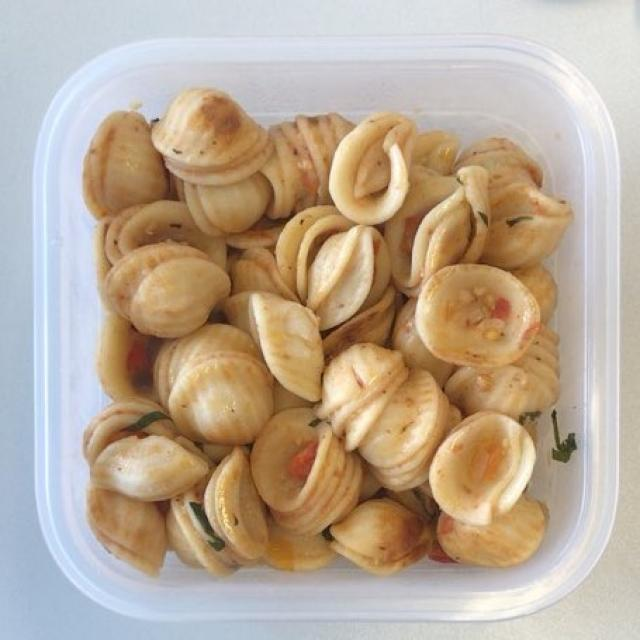pasta: (91, 98, 556, 573)
